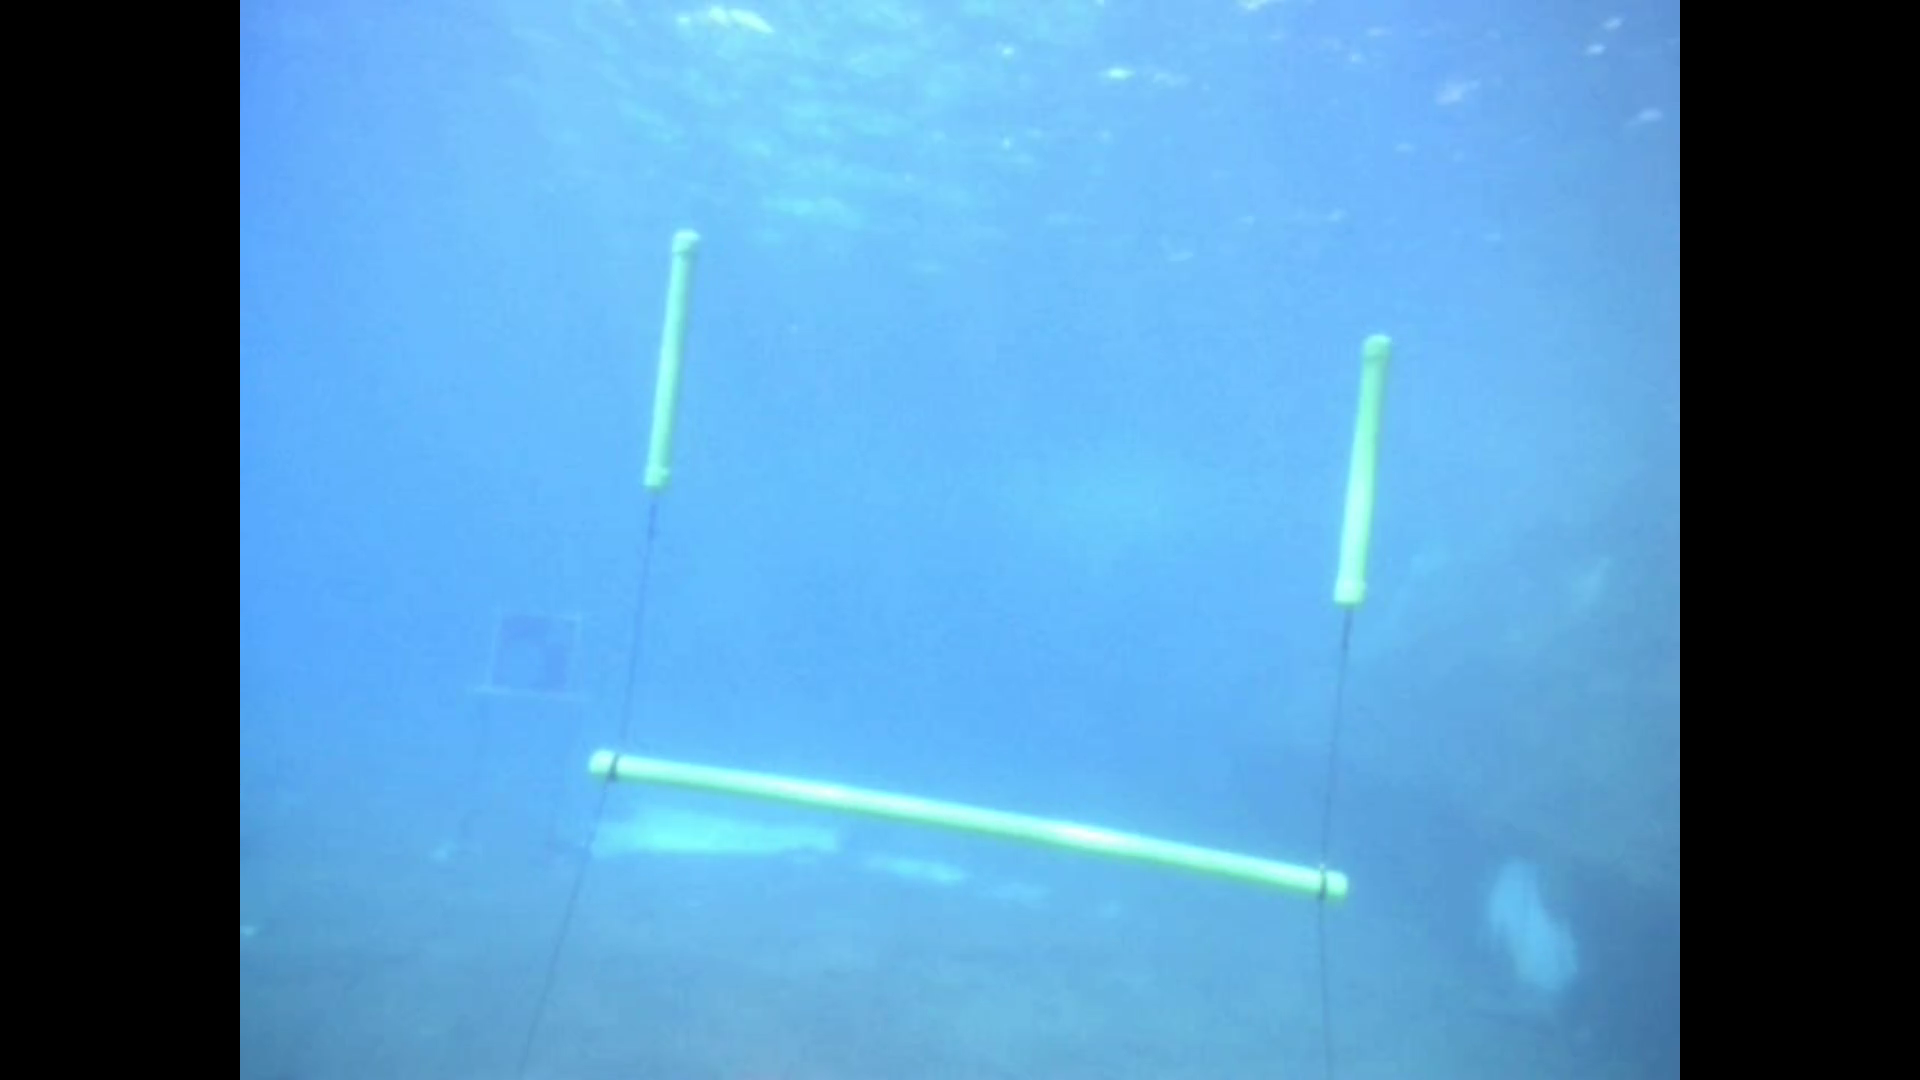gate: (578, 229, 1396, 919)
